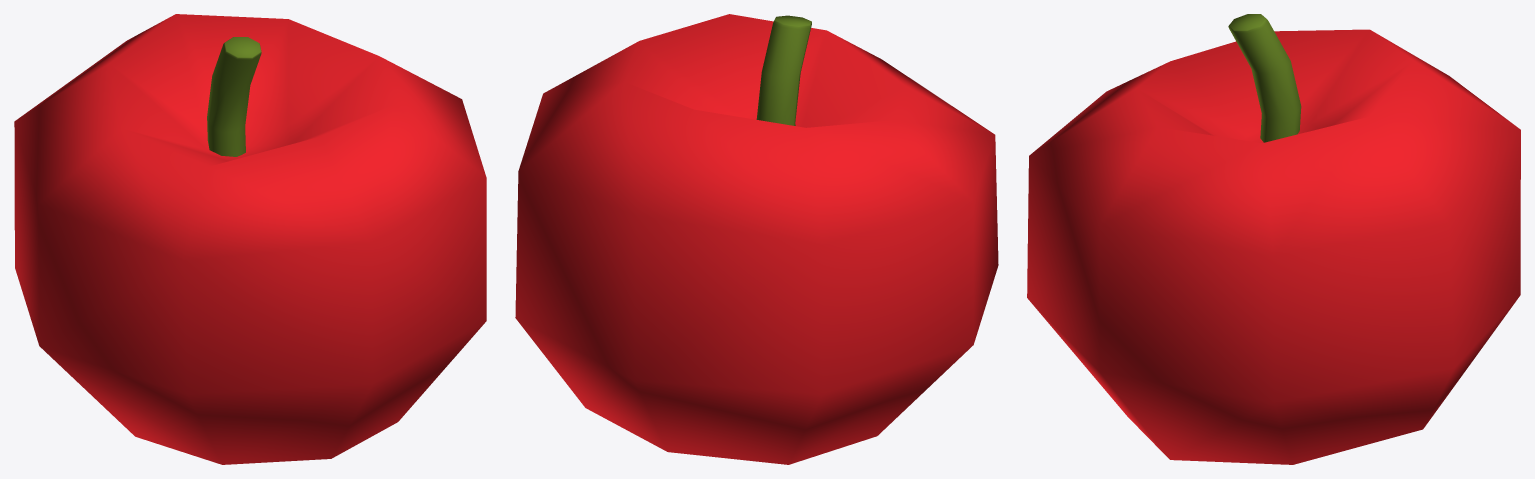
Rendered from SM_Apple.fbx.
3 views of the same model, side by side, from view 1: azimuth 30°, elevation 25°; view 2: azimuth 150°, elevation 25°; view 3: azimuth 270°, elevation 25° (orthographic).
Visible parts, largest first — view 1: SM_Apple; view 2: SM_Apple; view 3: SM_Apple.
Part boxes in pixels (x1,y1,x2,y2): SM_Apple: (14, 14, 486, 464); SM_Apple: (515, 14, 998, 464); SM_Apple: (1027, 14, 1520, 464).
Bounding box in the file's own units: 10.83 × 10.83 × 9.35.
1 material, 1 textured.
